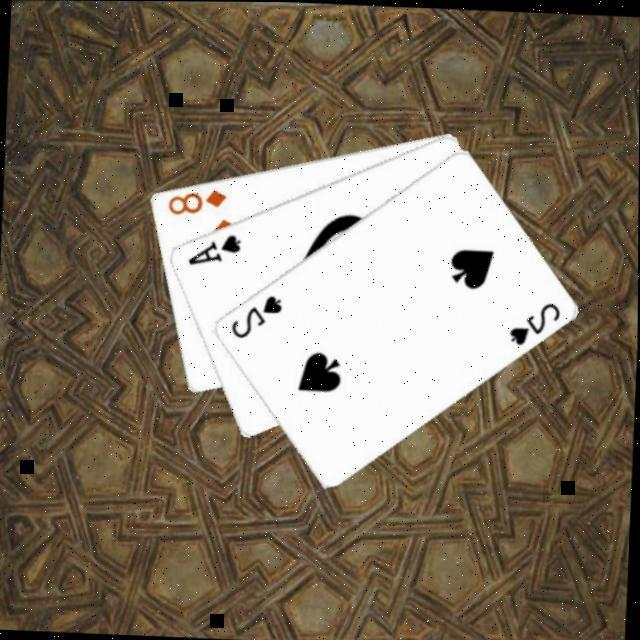2S: (229, 291, 287, 343), (506, 297, 564, 349)
8D: (165, 184, 230, 220)
AS: (186, 230, 245, 270)
